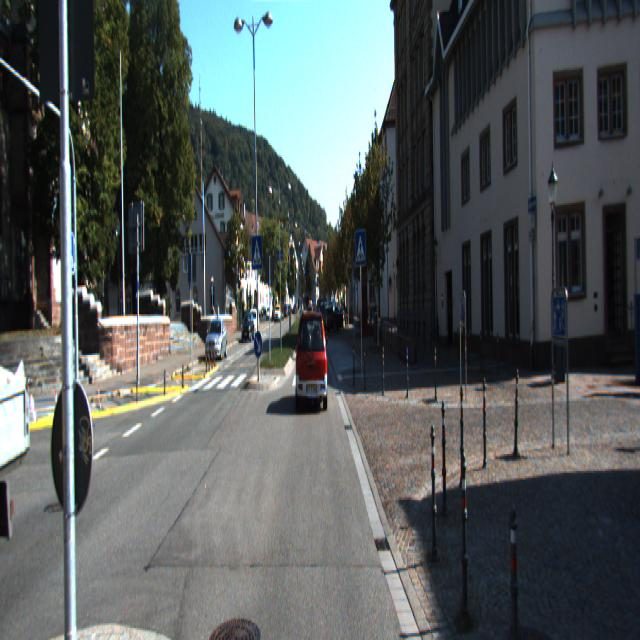Car: (0, 246, 43, 638), (296, 314, 329, 416), (204, 319, 229, 360), (326, 304, 346, 334), (242, 313, 254, 342)
